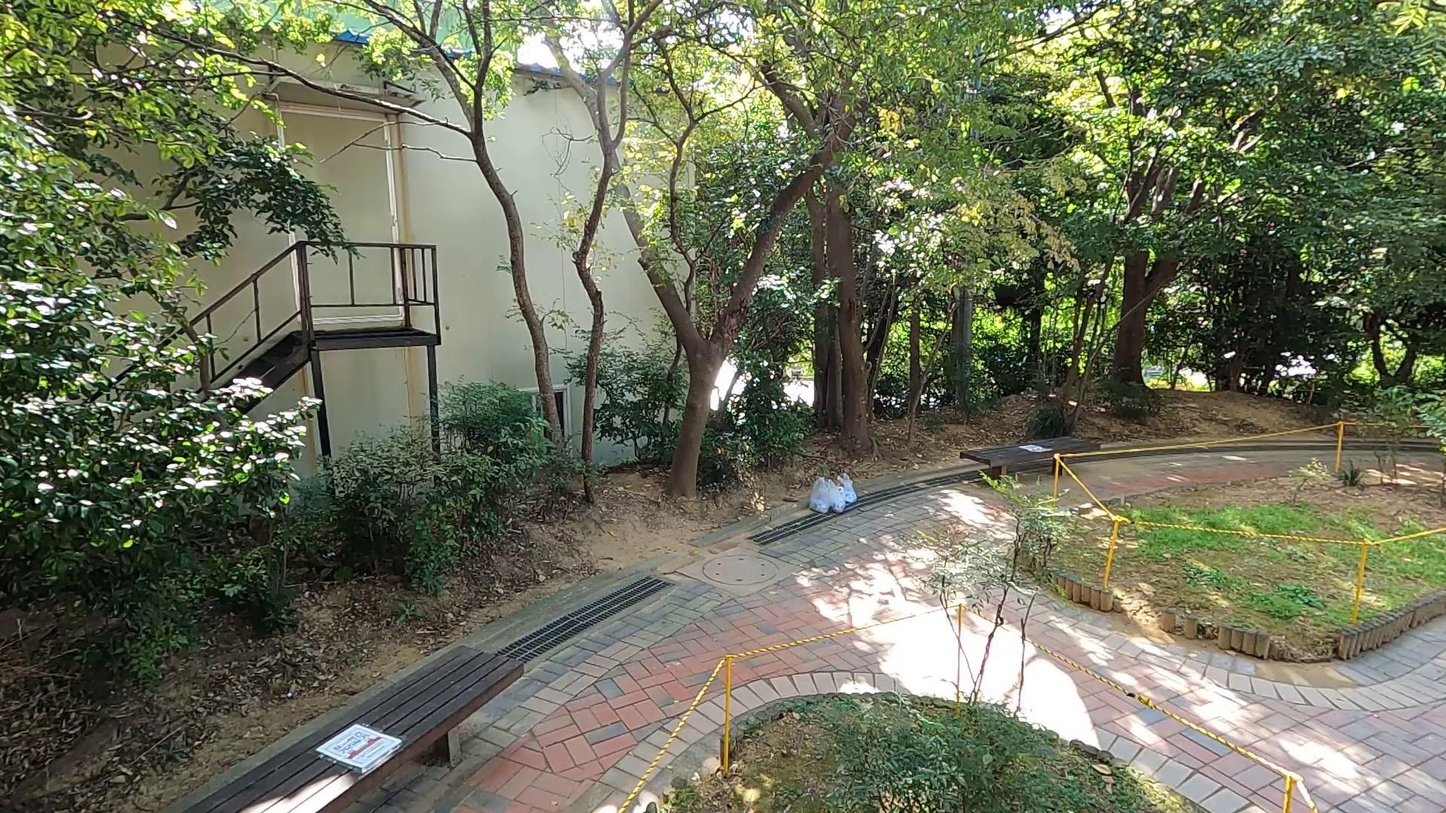trash: (825, 478, 846, 515), (810, 478, 831, 513), (837, 474, 858, 503)
